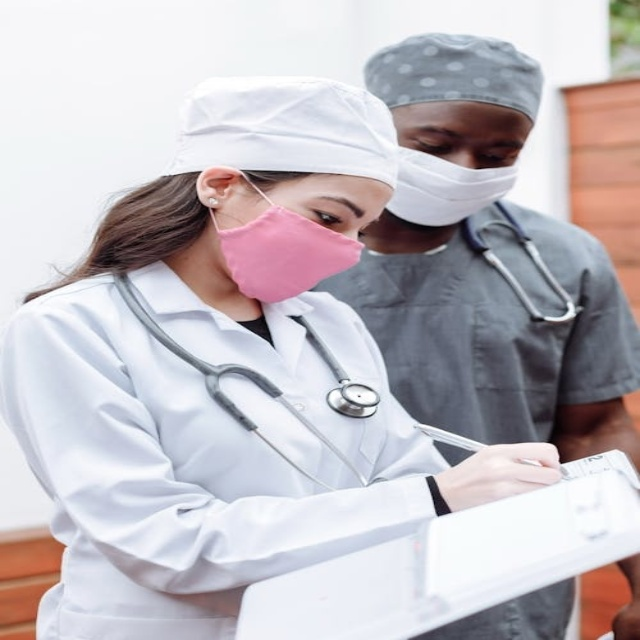Mascara: (207, 174, 366, 304), (383, 141, 521, 226)
Sin_gafas: (398, 116, 524, 160), (278, 181, 372, 238)
Sin_guantes: (429, 433, 559, 516)
